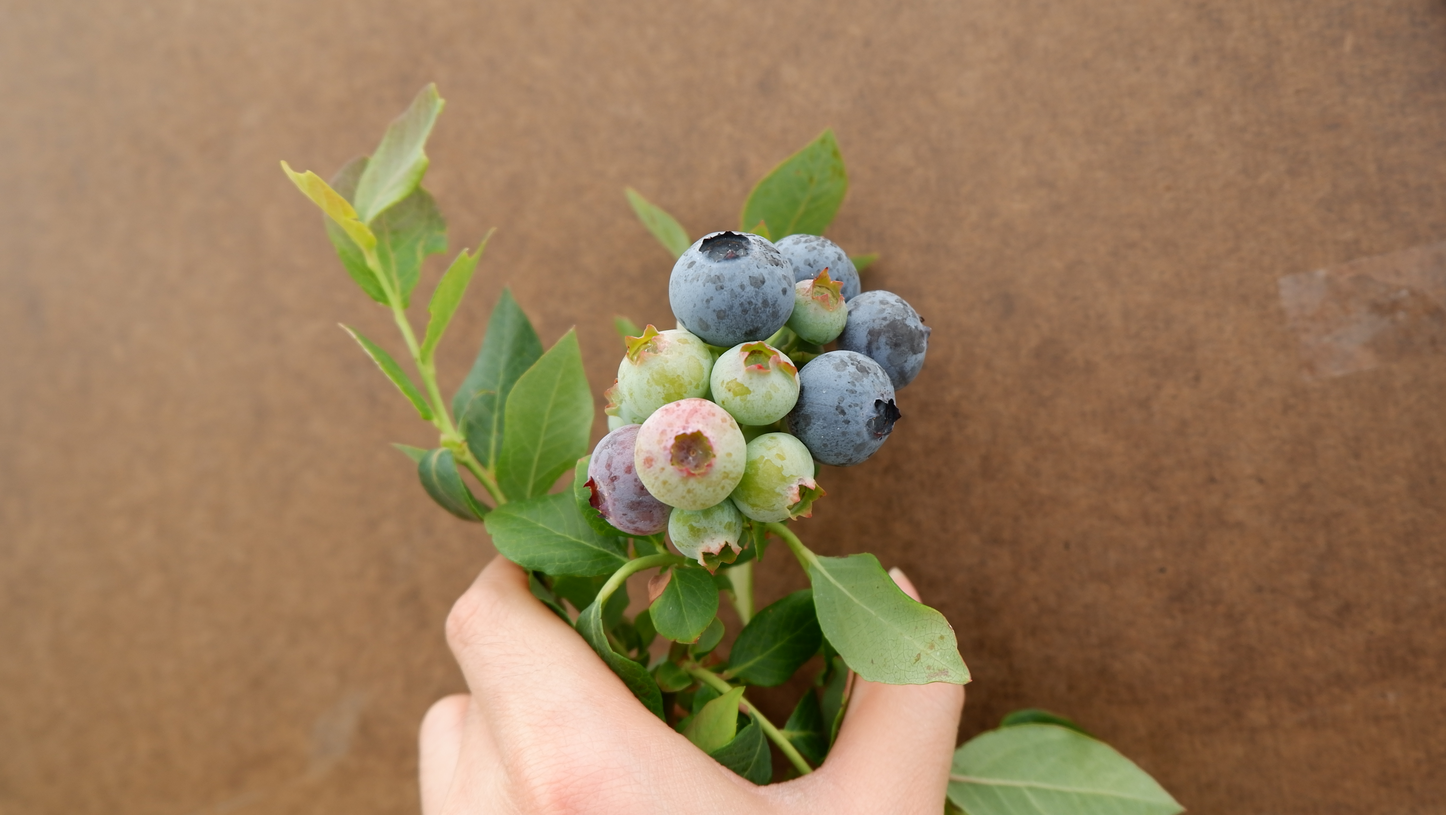Immature: (635, 397, 748, 510), (583, 423, 675, 536), (617, 324, 714, 418), (729, 432, 826, 523), (710, 340, 800, 427), (668, 495, 744, 576), (789, 267, 848, 346), (605, 378, 647, 433)
Mature: (670, 230, 797, 348), (786, 350, 901, 469), (838, 290, 931, 392), (776, 233, 860, 304)
